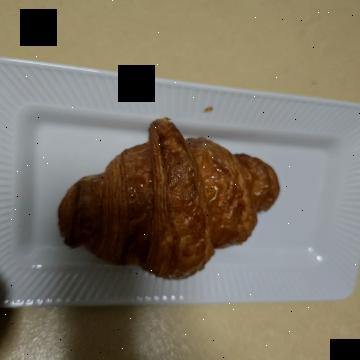croissant: (102, 74, 288, 310)
